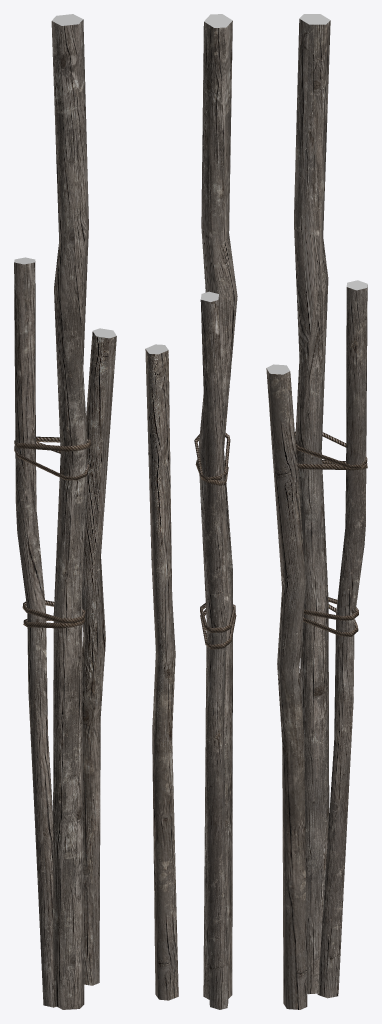
The model's file is Pole2_LOD1.fbx.
3 views of the same model, side by side, from view 1: azimuth 90°, elevation 25°; view 2: azimuth 210°, elevation 25°; view 3: azimuth 270°, elevation 25° (orthographic).
Parts seen in each view (by area): view 1: polySurface1403; view 2: polySurface1403; view 3: polySurface1403.
Part boxes in pixels (x1,y1,x2,y2): polySurface1403: (14,14,116,1009); polySurface1403: (145,14,237,1009); polySurface1403: (266,14,367,1009).
Bounding box in the file's own units: 0.4842 × 6.2 × 0.5848.
